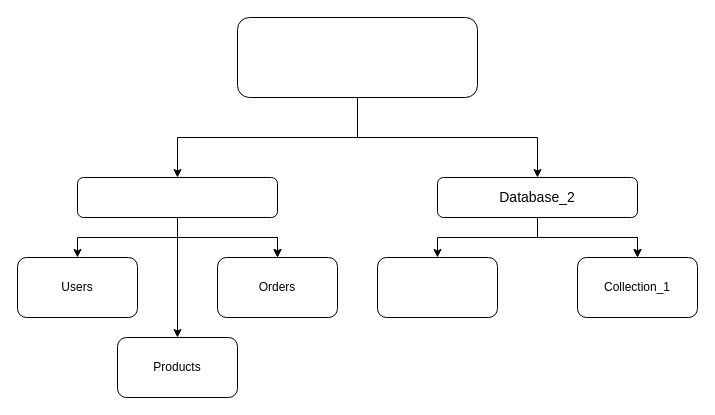
This 715x415 diagram has some shape labels left out. The shapes that lost their labels are listed below. From the top down, each one's centre as x and y in pixels, then its label:
At (x=357, y=57): "Client".
At (x=177, y=197): "Database_1".
At (x=437, y=287): "Collection_2".
